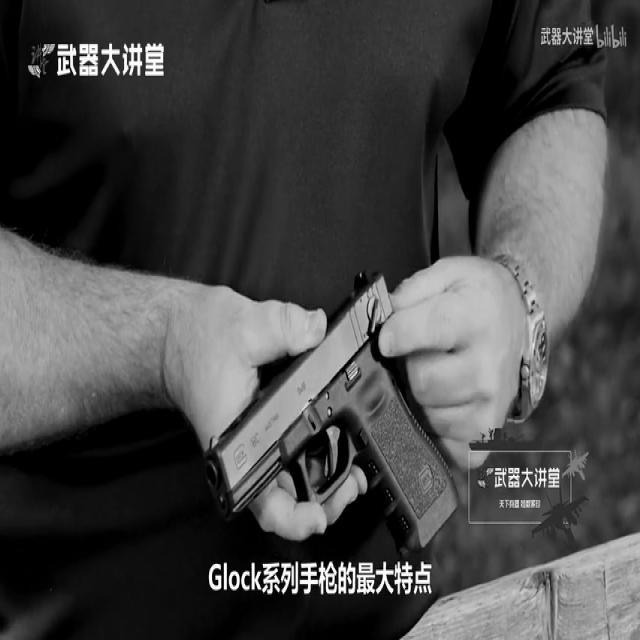Hand-Gun: (175, 218, 491, 640)
